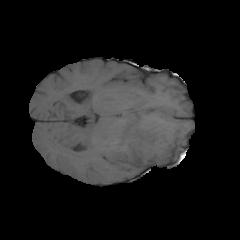glioma: (116, 112, 188, 166)
